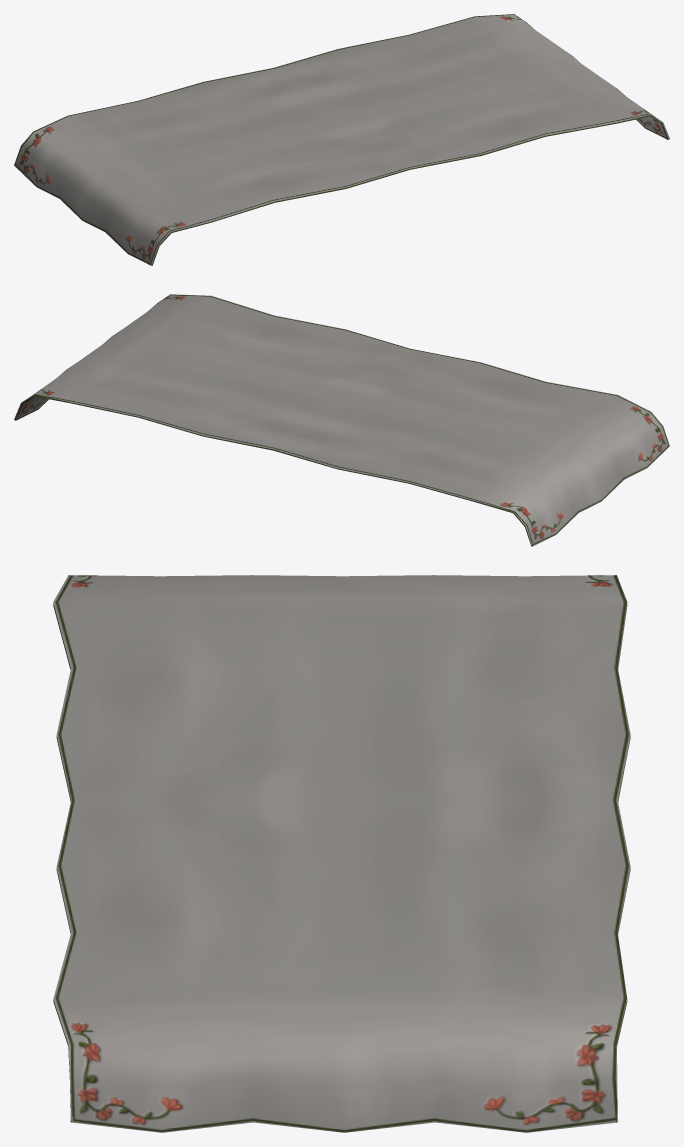
Rendered from TableCloth_Rectangular.fbx.
The picture shows the model from 3 angles, top to bottom: view 1: azimuth 30°, elevation 25°; view 2: azimuth 150°, elevation 25°; view 3: azimuth 270°, elevation 25°; orthographic projection. The views are drawn at different scales.
Parts seen in each view (by area): view 1: TableCloth_Rectangular2; view 2: TableCloth_Rectangular2; view 3: TableCloth_Rectangular2.
Part boxes in pixels (<box>): TableCloth_Rectangular2: <box>14,14,669,265</box>; TableCloth_Rectangular2: <box>14,294,669,546</box>; TableCloth_Rectangular2: <box>53,575,630,1132</box>.
Bounding box in the file's own units: 25.14 × 1.87 × 12.1.
